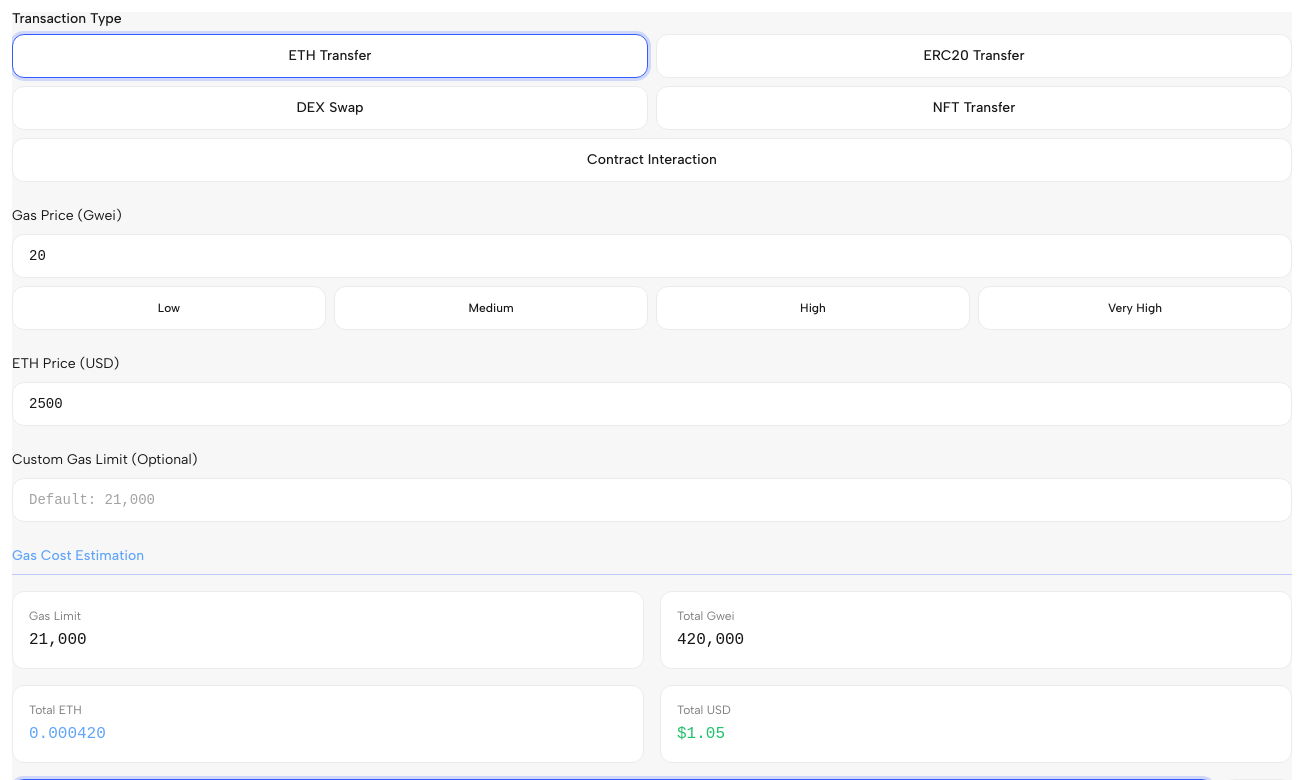
GasEstimatorTool › changes gas limit when transaction type changes
expect the text "21,000" is shown: met, box top-left (29, 631), bottom-right (87, 649)
# Change to ERC20 Transfer with 65,000 gas
Click the button "ERC20 Transfer" at (974, 56), box top-left (656, 34), bottom-right (1292, 78)
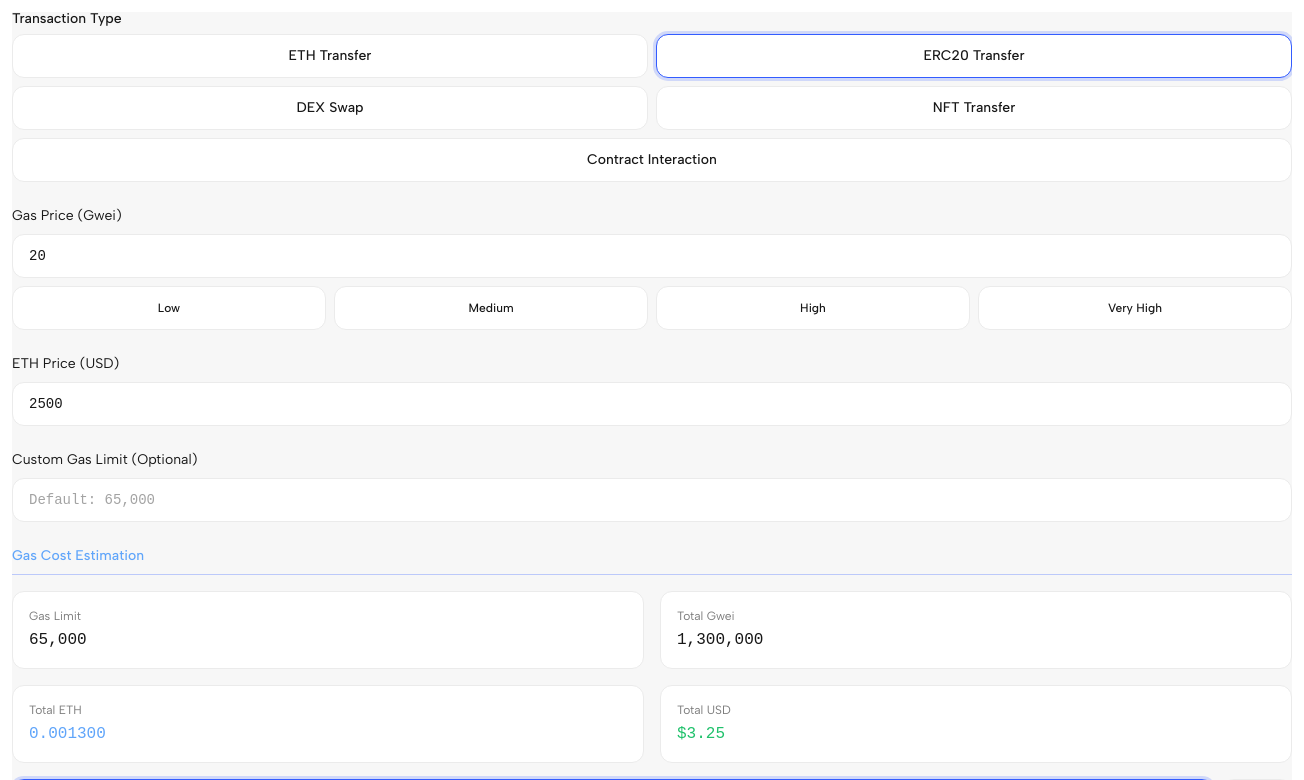
expect the text "65,000" is shown: met, box top-left (29, 631), bottom-right (87, 649)
# Change to DEX Swap with 150,000 gas
Click the button "DEX Swap" at (330, 108), box top-left (12, 86), bottom-right (648, 130)
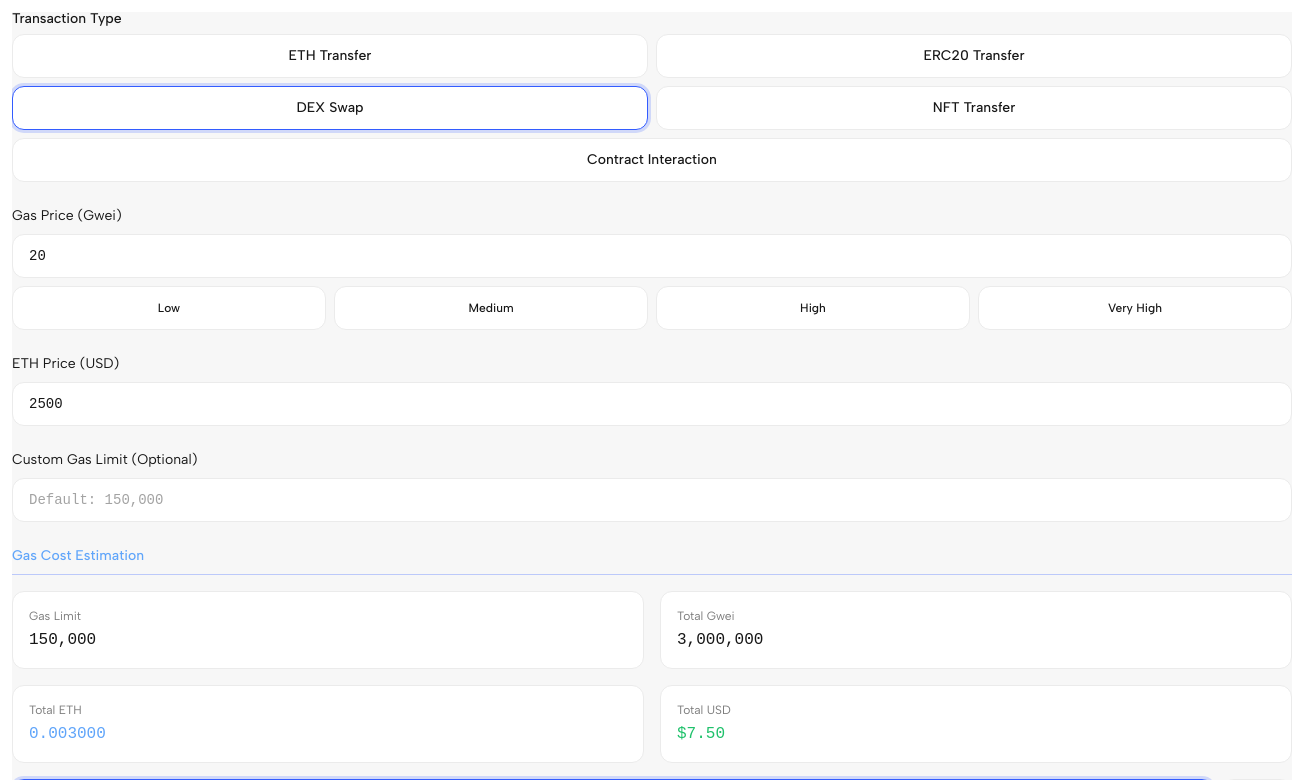
expect the text "150,000" is shown: met, box top-left (29, 631), bottom-right (96, 649)
